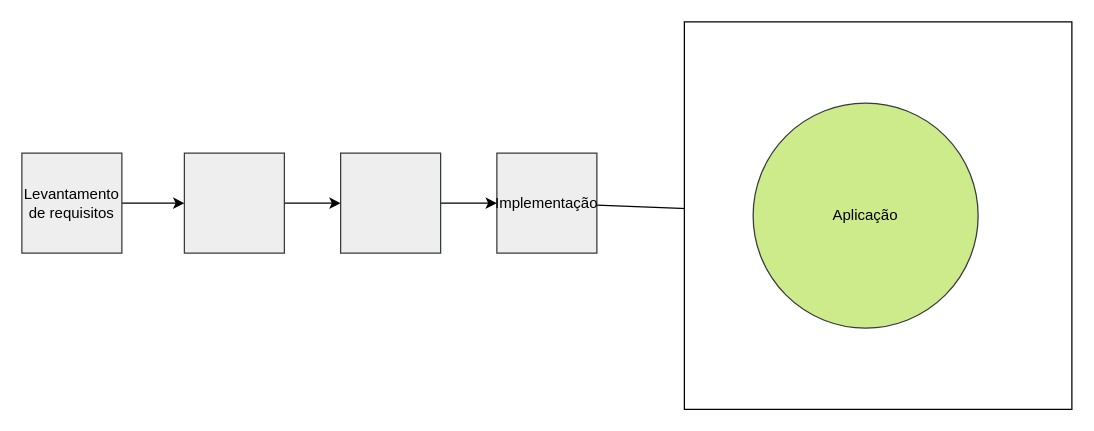
This 1094x431 diagram has some shape labels left out. The shapes that lost their labels are listed below. From the top down, each one's centre as x and y in pixels, then its label:
At point (233, 202): "Análise de requisitos / modelagem (DDD)".
At point (390, 202): "Design".
